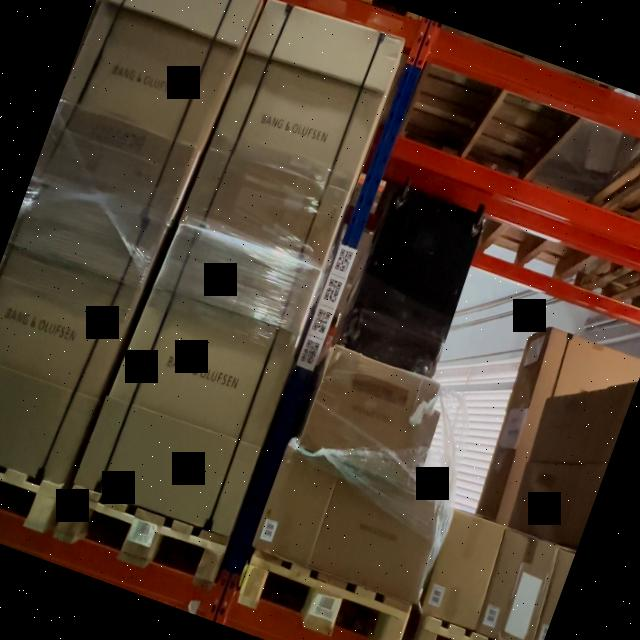box: (74, 221, 322, 539), (185, 0, 405, 268), (298, 342, 454, 484), (308, 462, 455, 604), (252, 443, 344, 562), (424, 510, 509, 630), (477, 526, 560, 640)
